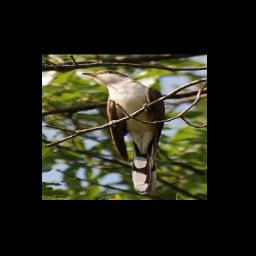Cuckoo: (80, 69, 167, 195)
